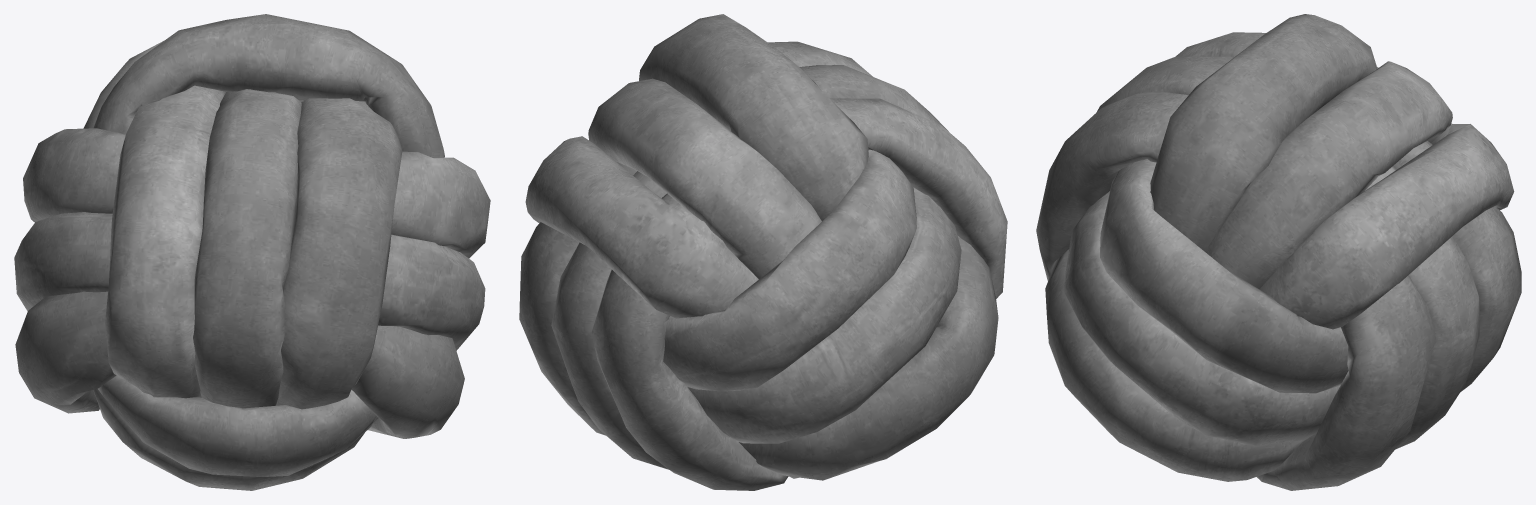
Rendered from knot-transformed.glb.
3 views of the same model, side by side, from view 1: azimuth 30°, elevation 25°; view 2: azimuth 150°, elevation 25°; view 3: azimuth 270°, elevation 25° (orthographic). The views are drawn at different scales.
Parts seen in each view (by area): view 1: Furniture_Detail_Cushion_Knot_01; view 2: Furniture_Detail_Cushion_Knot_01; view 3: Furniture_Detail_Cushion_Knot_01.
Part boxes in pixels (x1=…): Furniture_Detail_Cushion_Knot_01: x1=14, y1=14, x2=490, y2=490; Furniture_Detail_Cushion_Knot_01: x1=519, y1=14, x2=1007, y2=490; Furniture_Detail_Cushion_Knot_01: x1=1036, y1=14, x2=1521, y2=490.
Size of the model in its own units: 0.2952 by 0.275 by 0.2962.
Materials: 1 (1 with a texture image).
